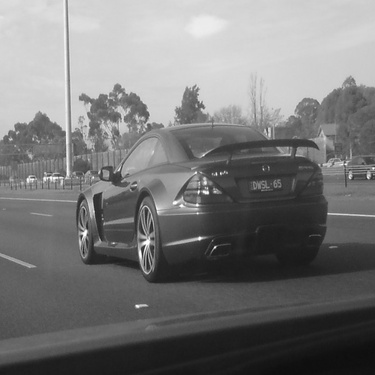car: (70, 119, 331, 284), (341, 155, 374, 182), (315, 154, 349, 169), (24, 170, 39, 187), (86, 165, 98, 186), (8, 171, 23, 185), (70, 165, 82, 181), (53, 171, 64, 185)
